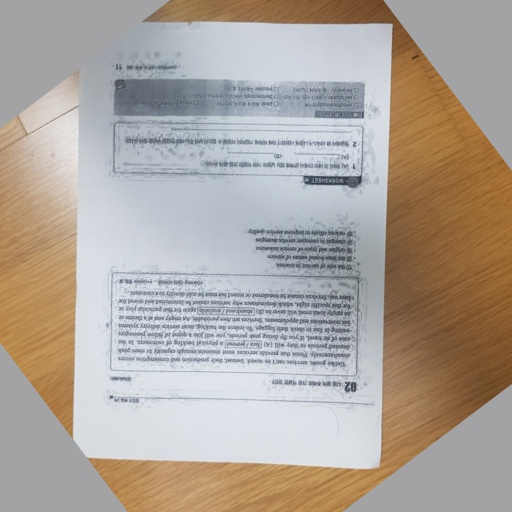Paper_2: (72, 19, 394, 473)
